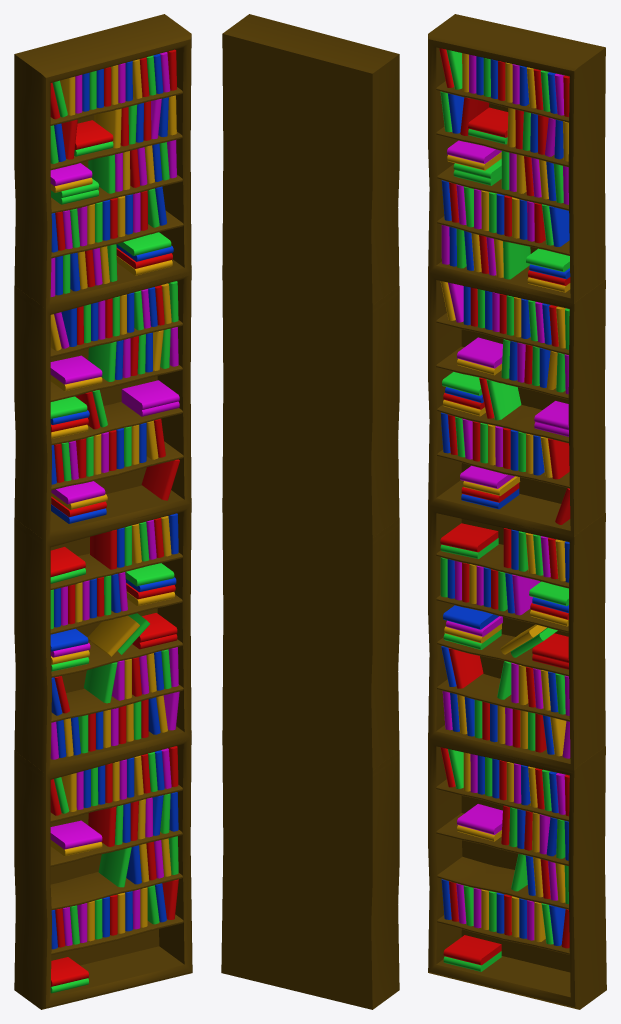
Rendered from bookshelf test.fbx.
The picture shows the model from 3 angles, left to right: view 1: azimuth 30°, elevation 25°; view 2: azimuth 150°, elevation 25°; view 3: azimuth 330°, elevation 25°; orthographic projection.
Visible parts, largest first — view 1: shelf, books; view 2: shelf; view 3: shelf, books.
Boxes of the visible parts, x1,y1,x2,y2 form: shelf: [14, 14, 192, 1009]; books: [50, 49, 179, 993]; shelf: [221, 14, 399, 1009]; shelf: [428, 14, 606, 1009]; books: [439, 48, 570, 971].
Size of the model in its own units: 94.85 by 563 by 31.41.
